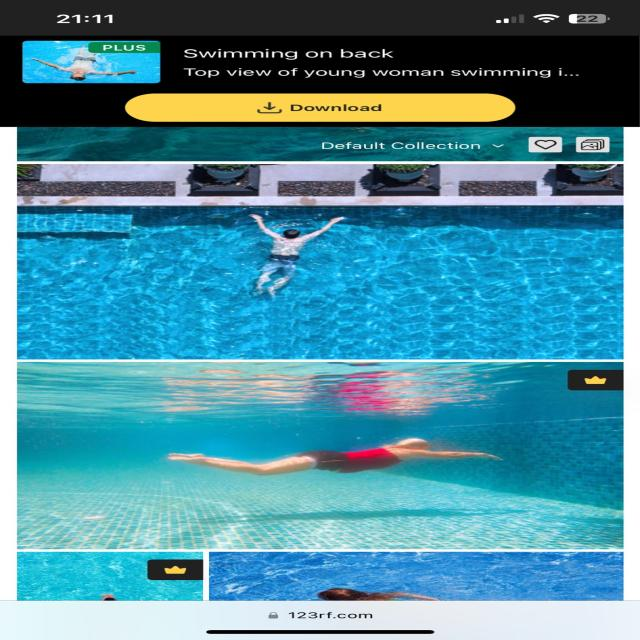Swimming: (157, 426, 506, 479), (245, 203, 345, 296)
